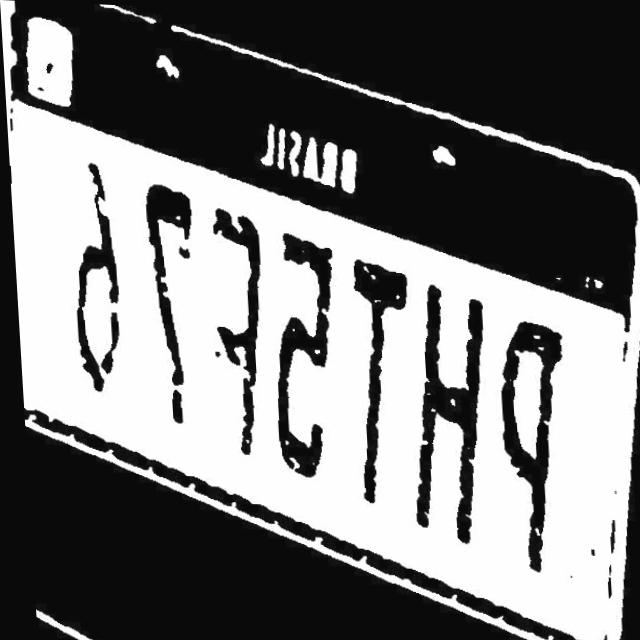5: (259, 220, 344, 506)
6: (50, 140, 134, 428)
7: (135, 162, 214, 461)
f: (198, 200, 277, 490)
h: (393, 261, 499, 552)
p: (485, 294, 574, 582)
t: (341, 239, 423, 529)
